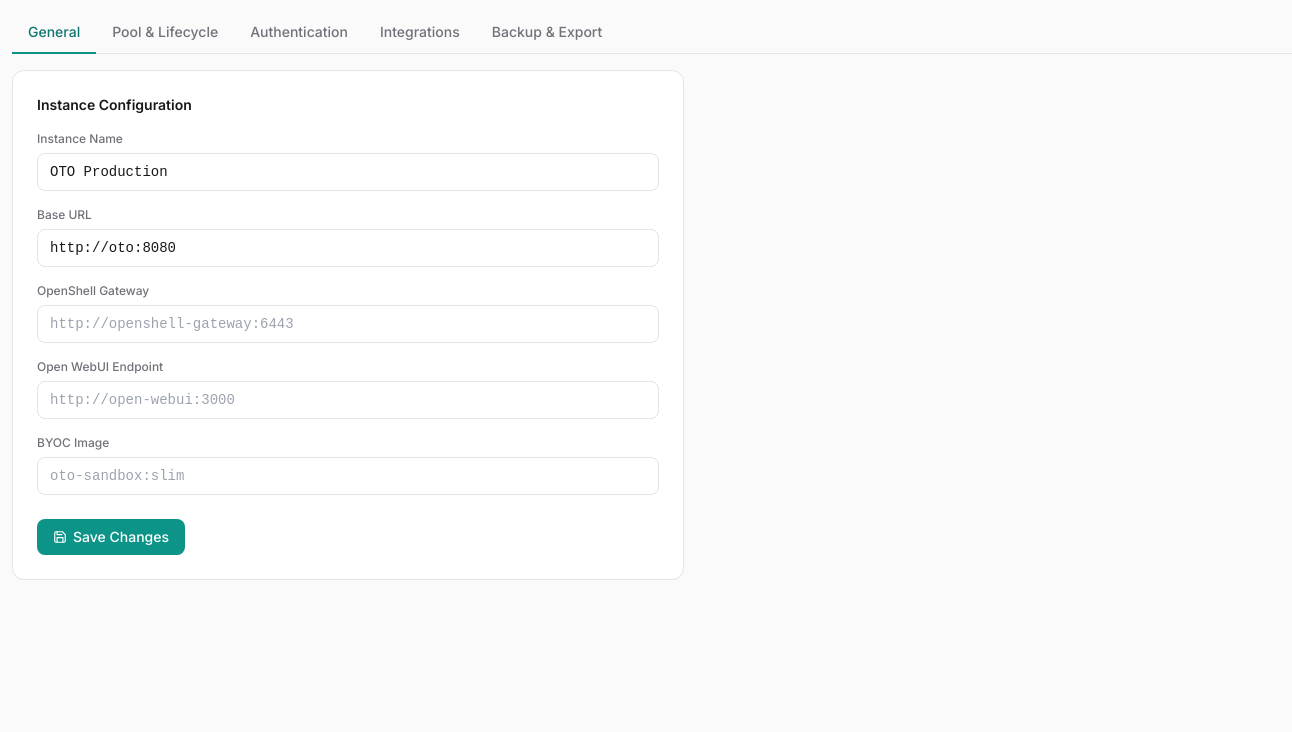
Settings page › switches to Backup & Export tab
Expected: the button "General" is shown, [12,12,96,54]
Step 1. Click the button "Backup & Export" → coordinates (547, 33), box [476,12,618,54]
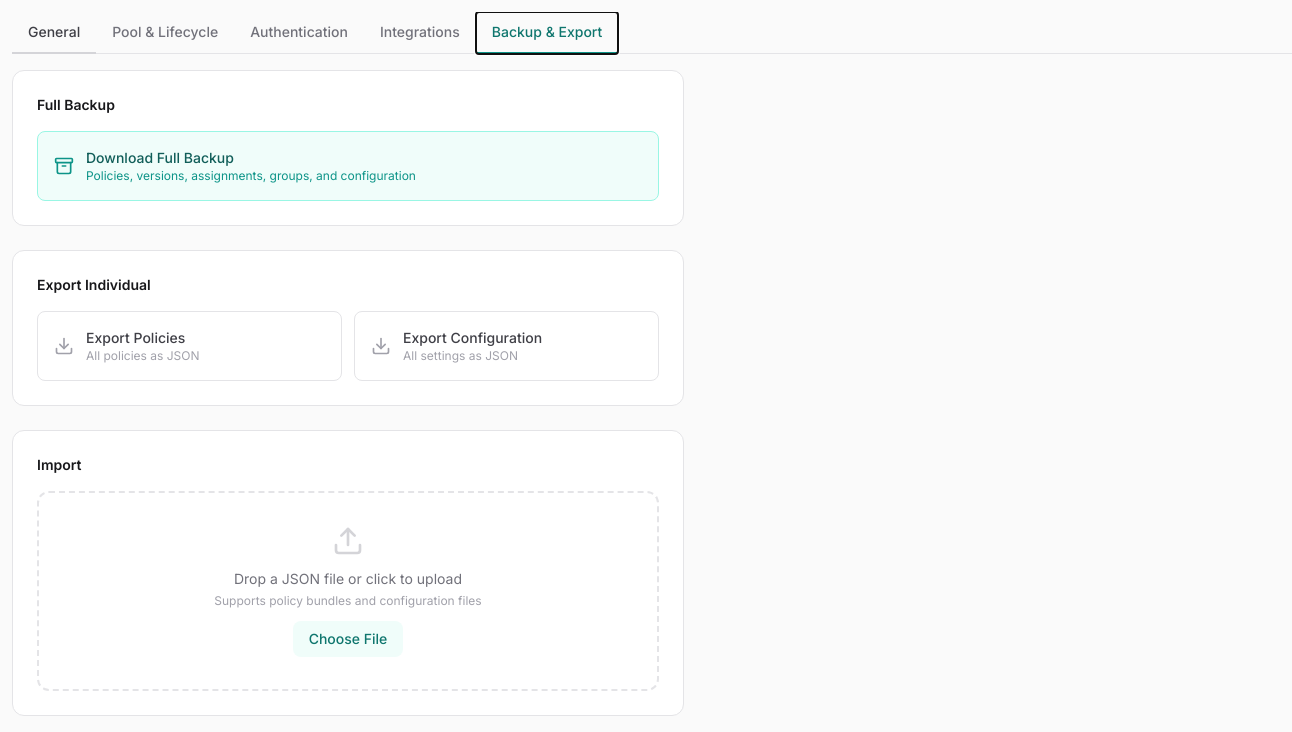
Expected: the heading "Full Backup" is shown, [37,96,115,113]
Expected: the heading "Export Individual" is shown, [37,276,151,293]
